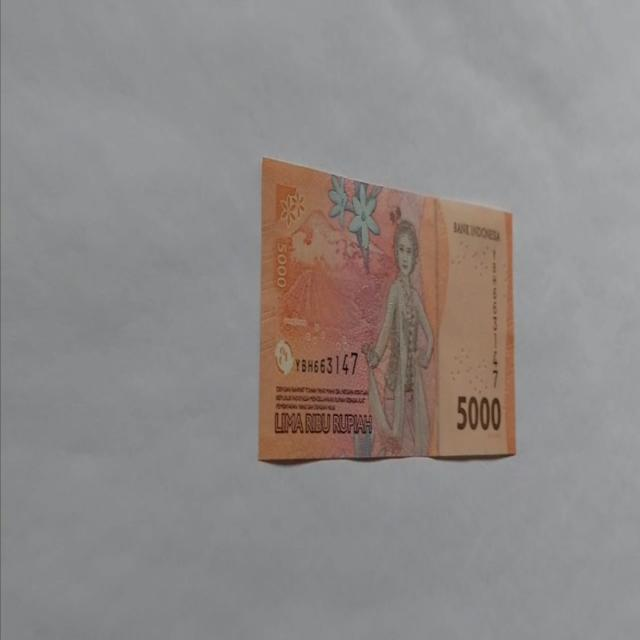lima ribu rupiah: (258, 154, 516, 464), (360, 218, 435, 457)
